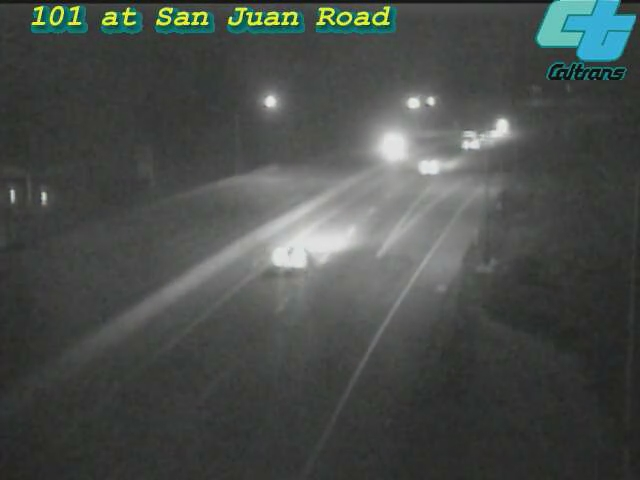vehicle: (391, 126, 471, 206), (247, 223, 327, 303), (366, 122, 416, 172), (474, 101, 524, 151), (468, 109, 518, 159), (450, 116, 500, 166)
